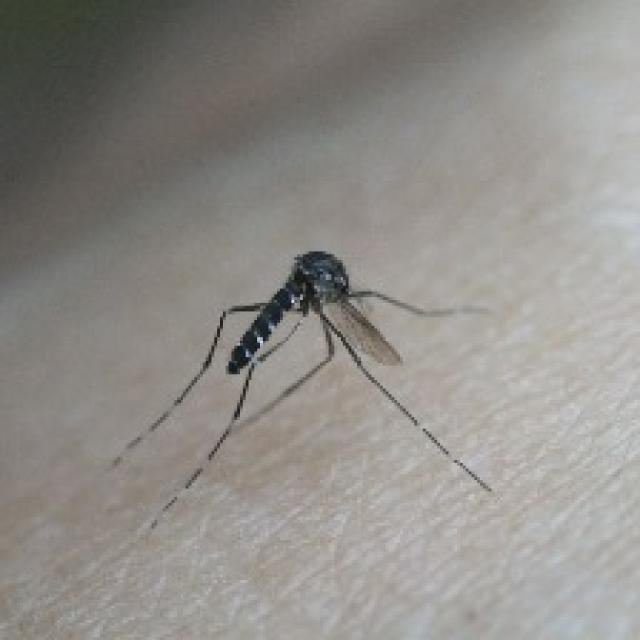aedes: (106, 246, 494, 534)
